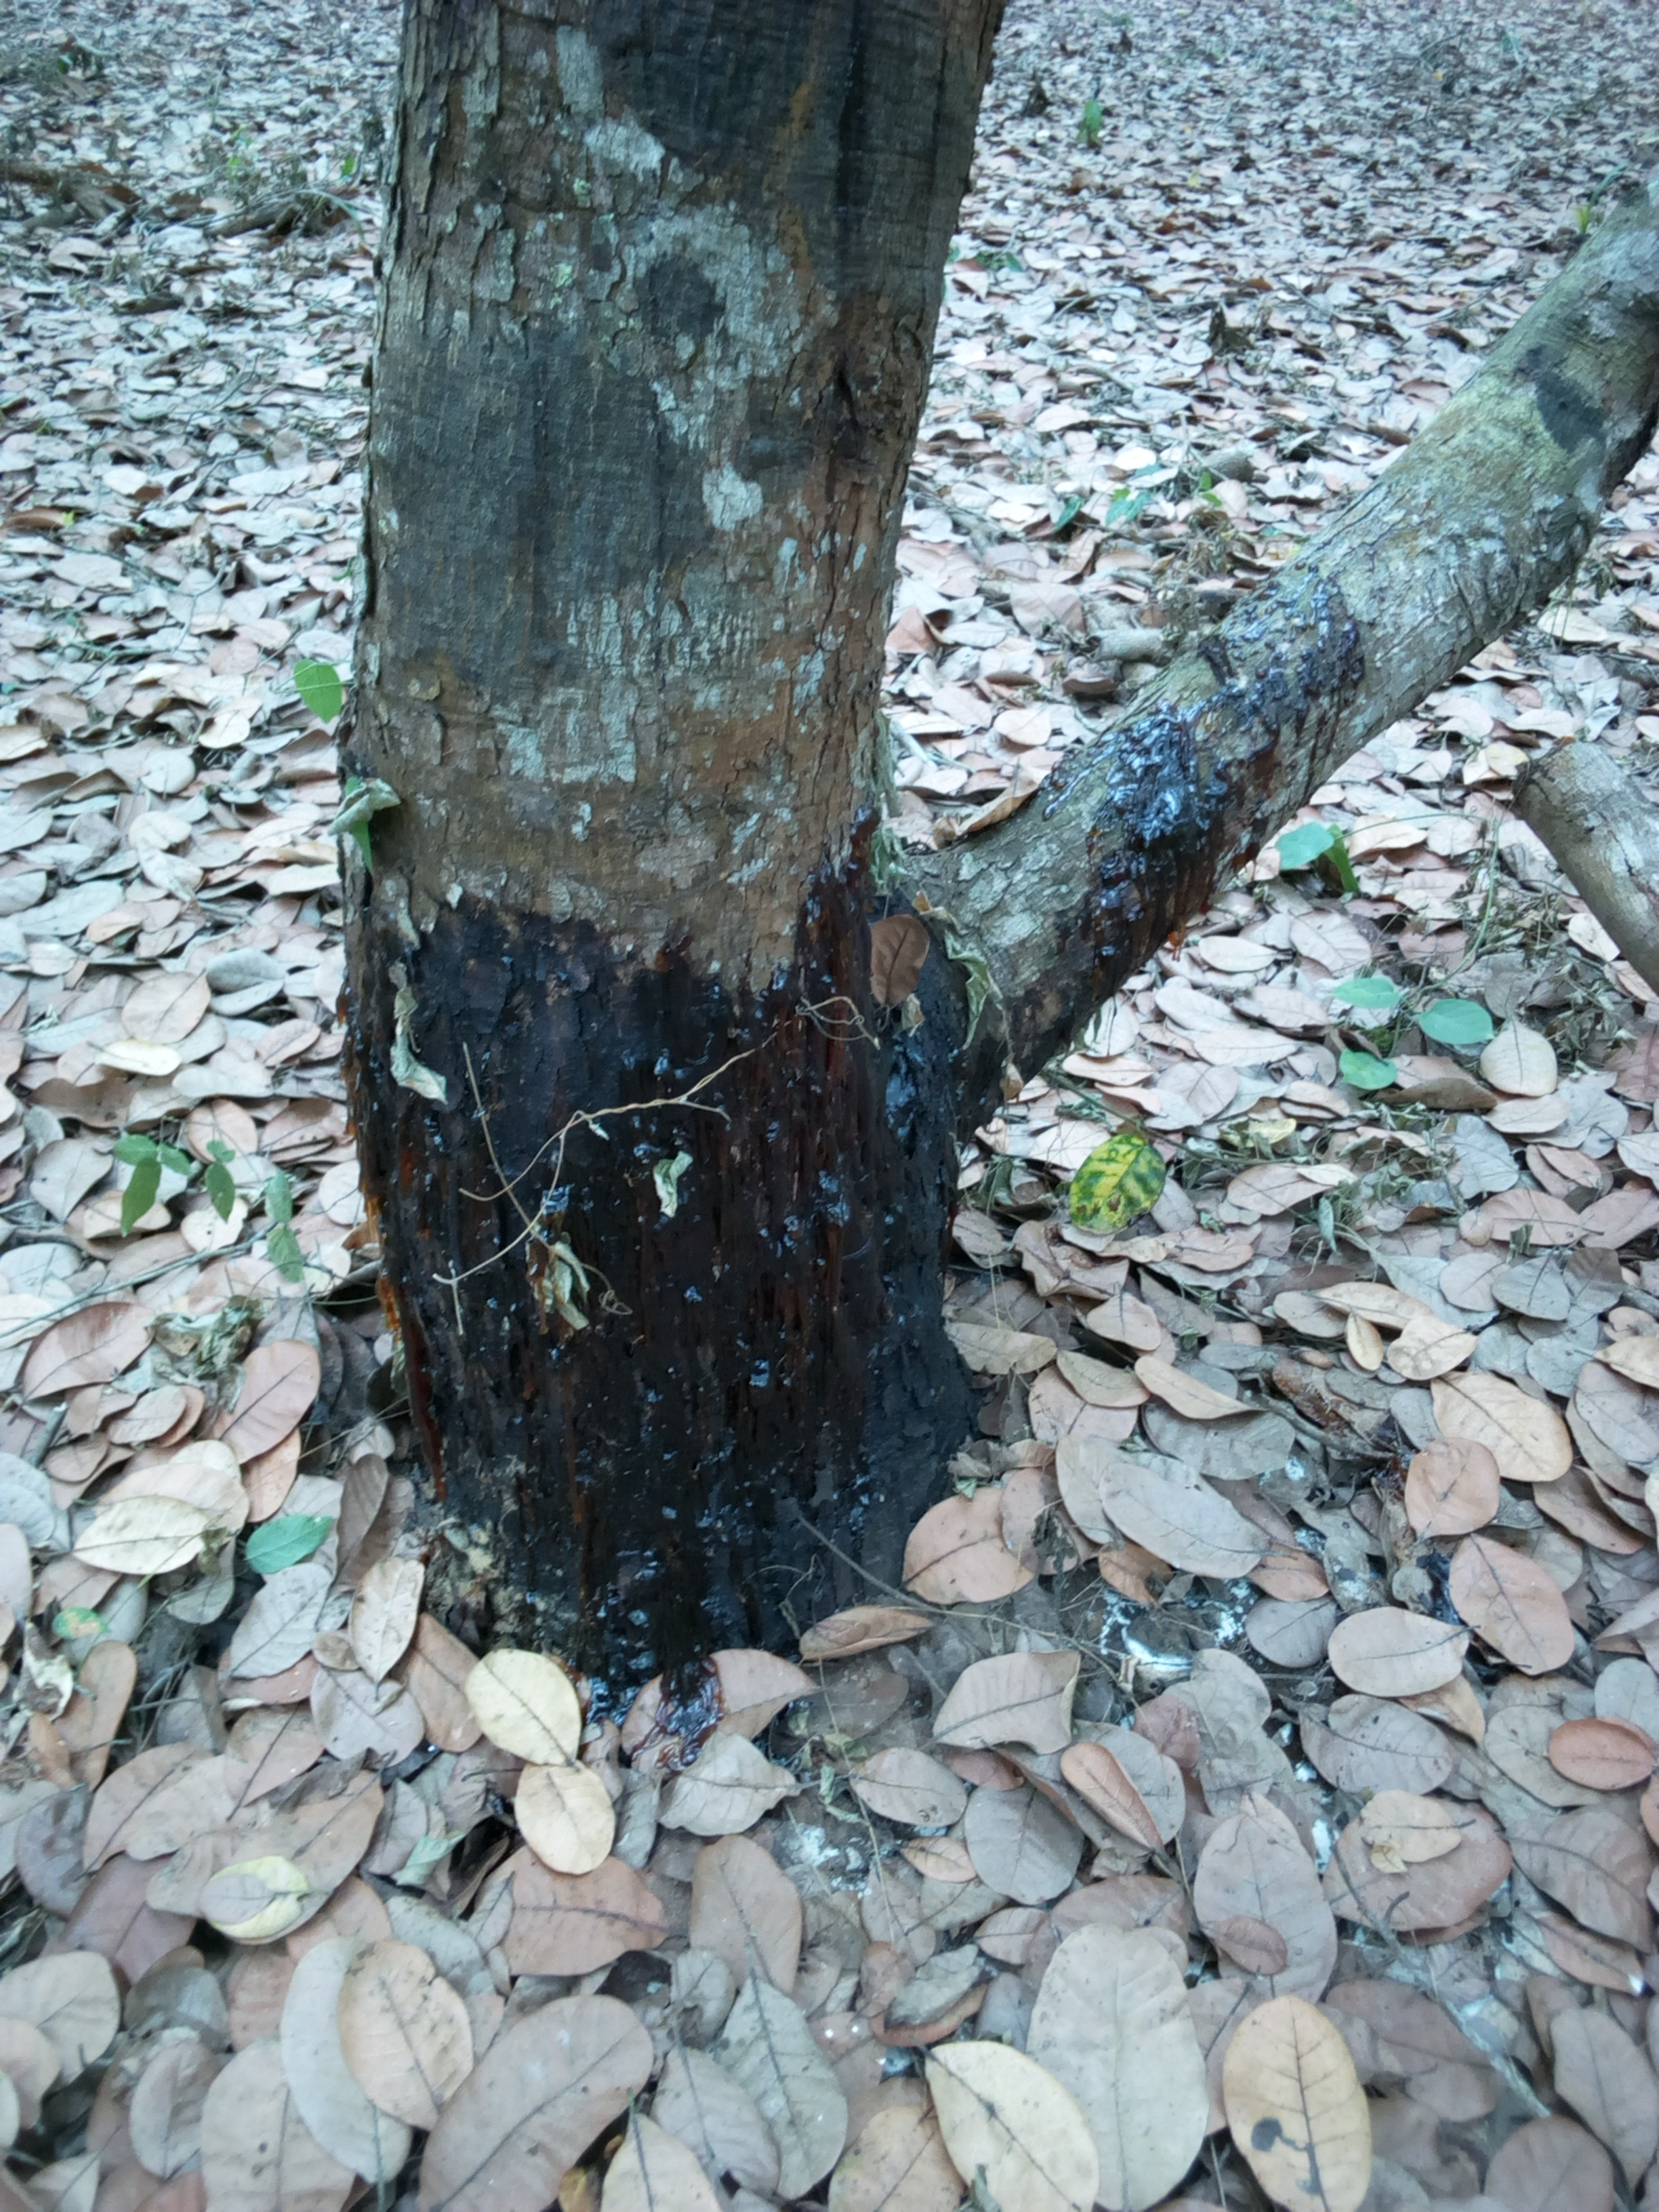Mecocorynus longiceps: (500, 981, 934, 1489), (1016, 550, 1408, 1052)
